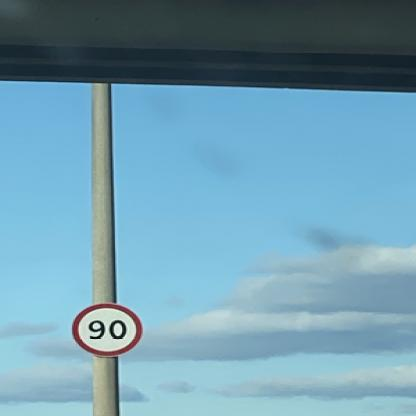Speed Limit 90: (72, 304, 143, 358)
